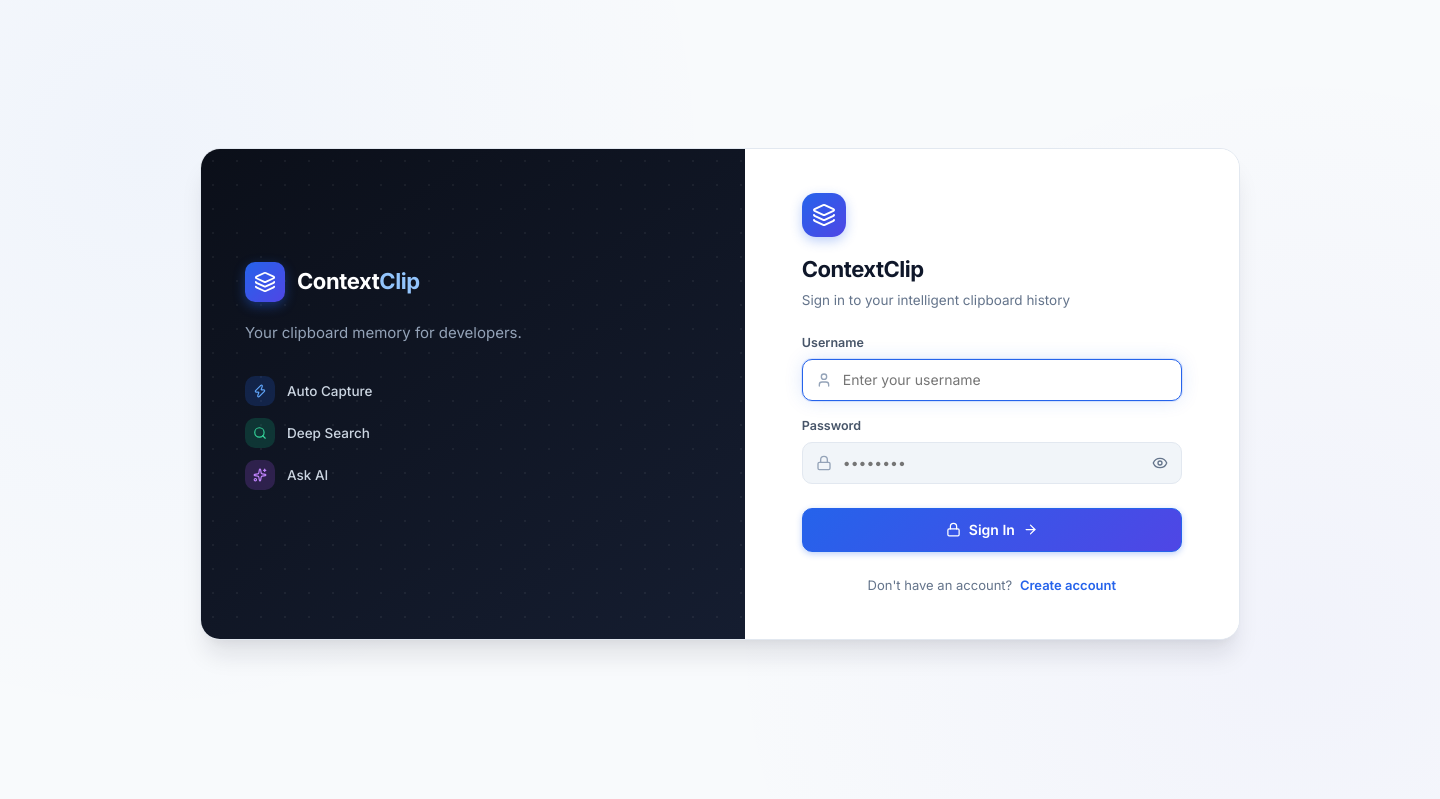
ContextClip Authentication and Application UI Tests › 1. Authentication Flow (Login & Register) › 3. Successful login stores authentication state and shows app shell
The width and height of the screenshot is (1440, 799).
Type "premtest" into the field with test id "login-username". click: (992, 380)
box: [802,359,1182,401]
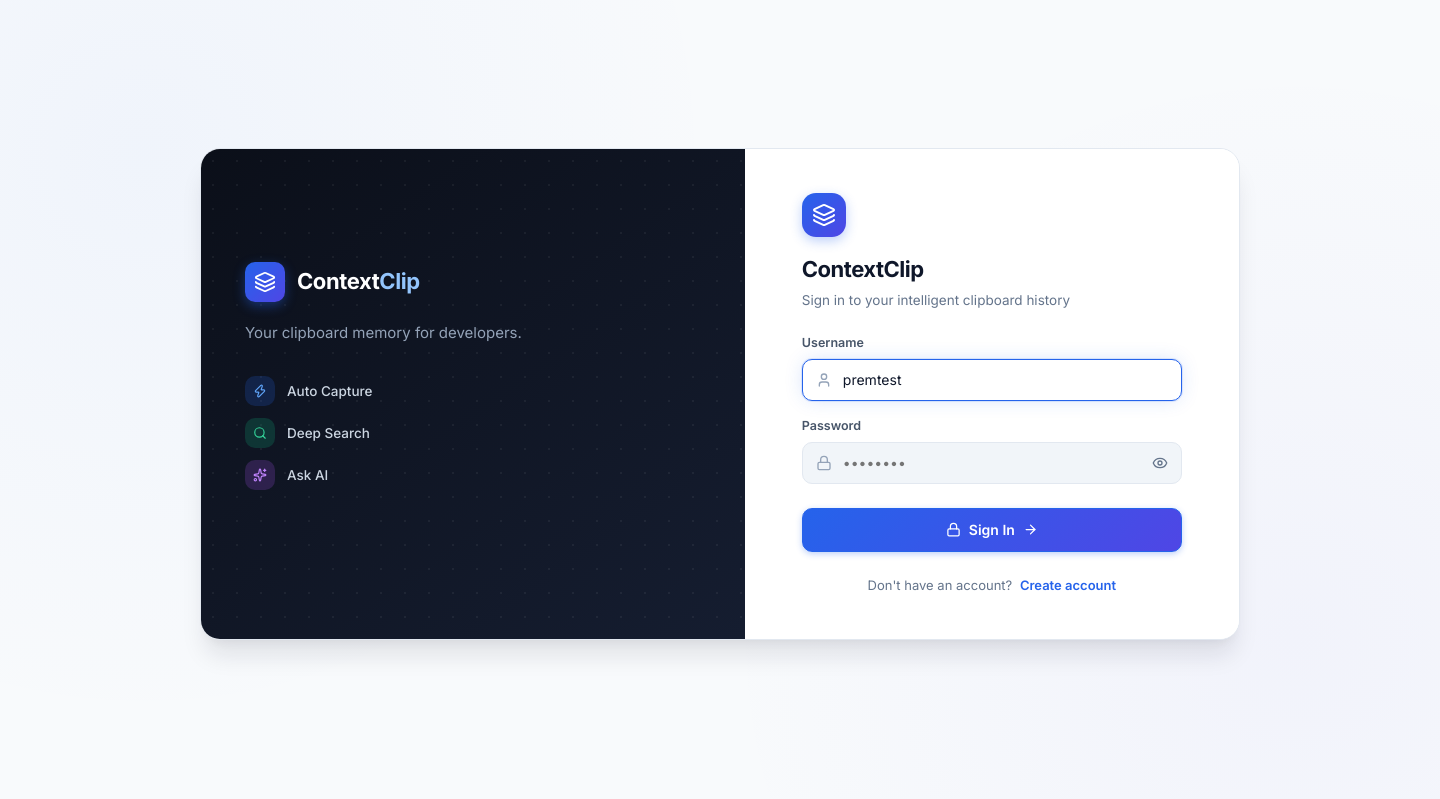
Type "StrongPassword123!" into the password field with test id "login-password". click: (992, 463)
box: [802,442,1182,484]
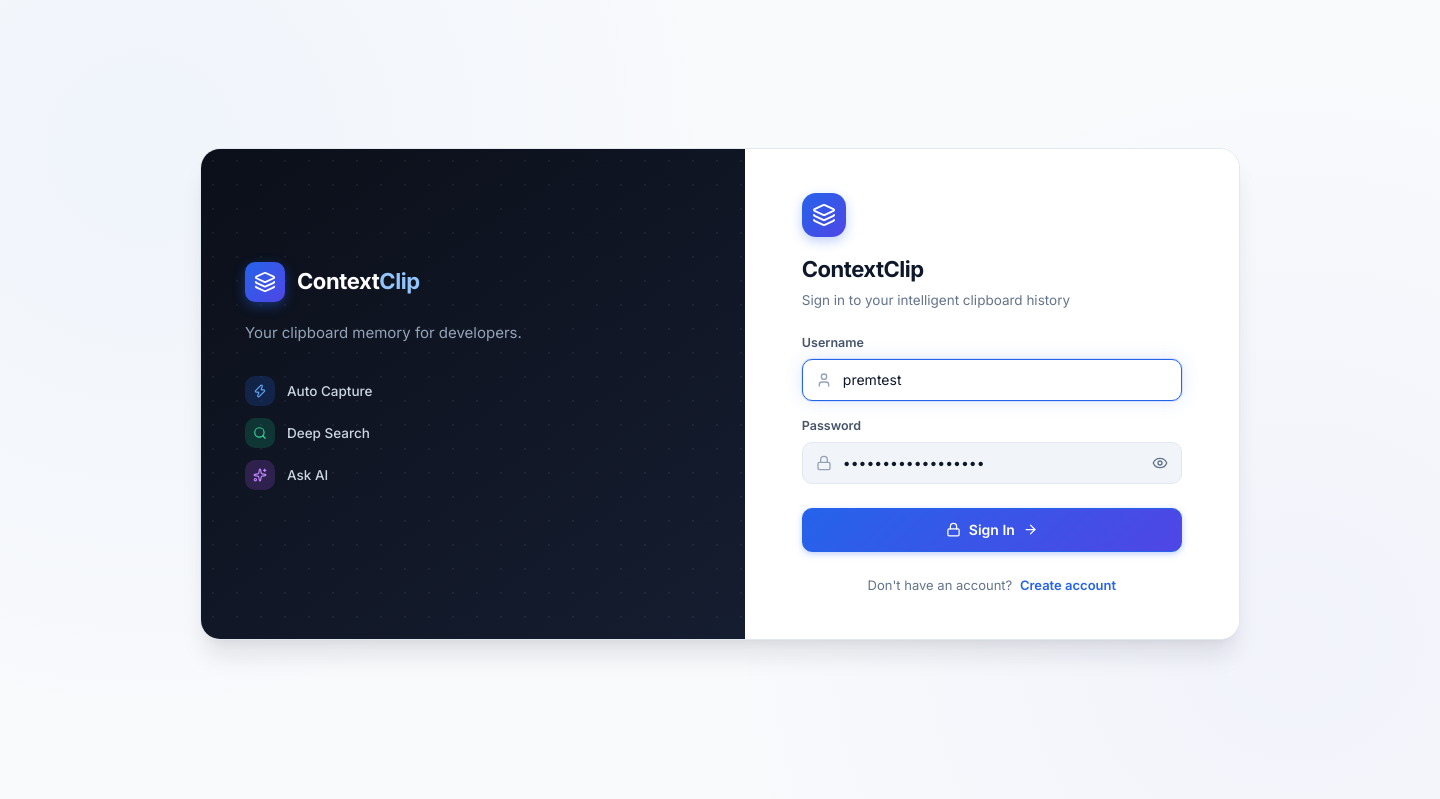
Click the button with test id "login-submit". click: (992, 530)
box: [802,508,1182,552]
(page scrolled)
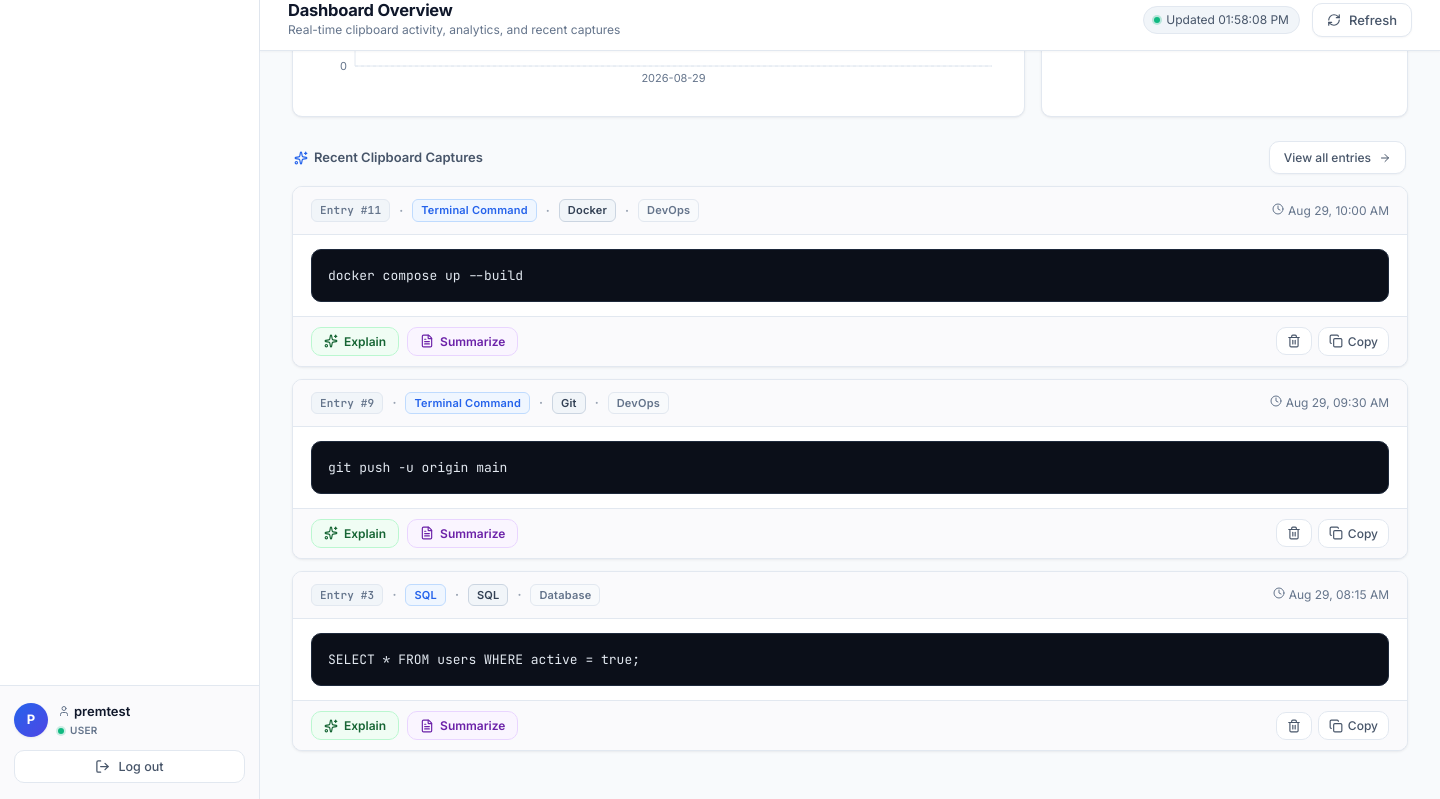
Expected: the element with test id "user-profile" is shown, [14,702,245,783]
Expected: the text "premtest" is shown, [74,702,130,721]
Expected: the text "USER" is shown, [70,723,98,738]
